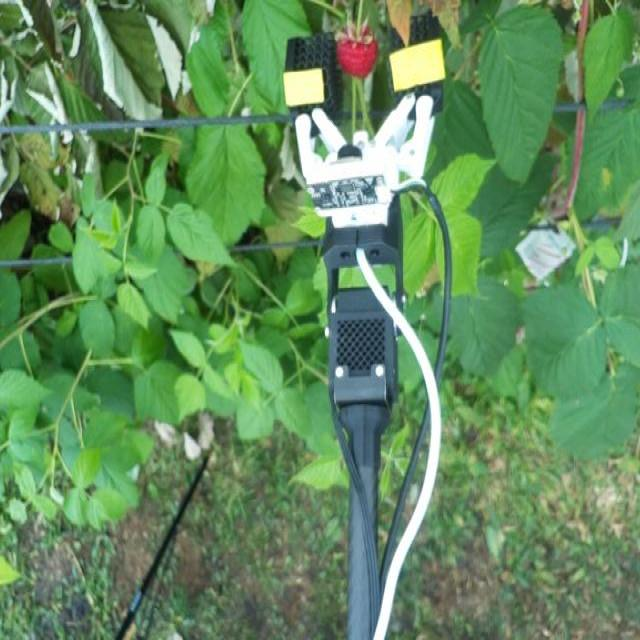Riped berries: (333, 20, 379, 80)
